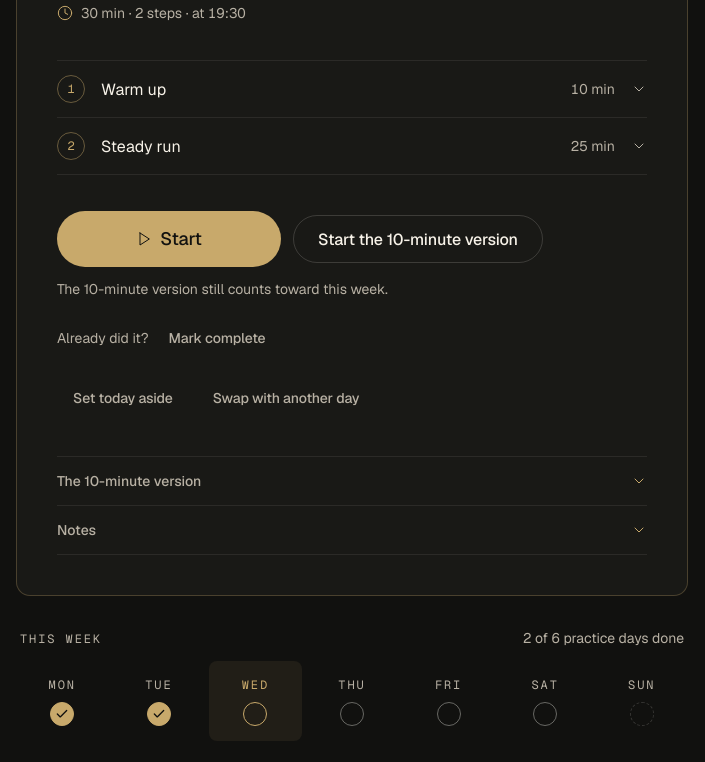
Scenario: Today › short on time and gentle return (missed sessions M3.2) › short on time belongs to today only, not to another selected day
(page scrolled)
Expected: the button "Start the 10-minute version" is shown, [293, 216, 543, 264]
What coordinates should you click on to do the following:
click the button "Tue"
I would click on:
 (159, 702)
Its box is [113, 662, 205, 742].
(page scrolled)
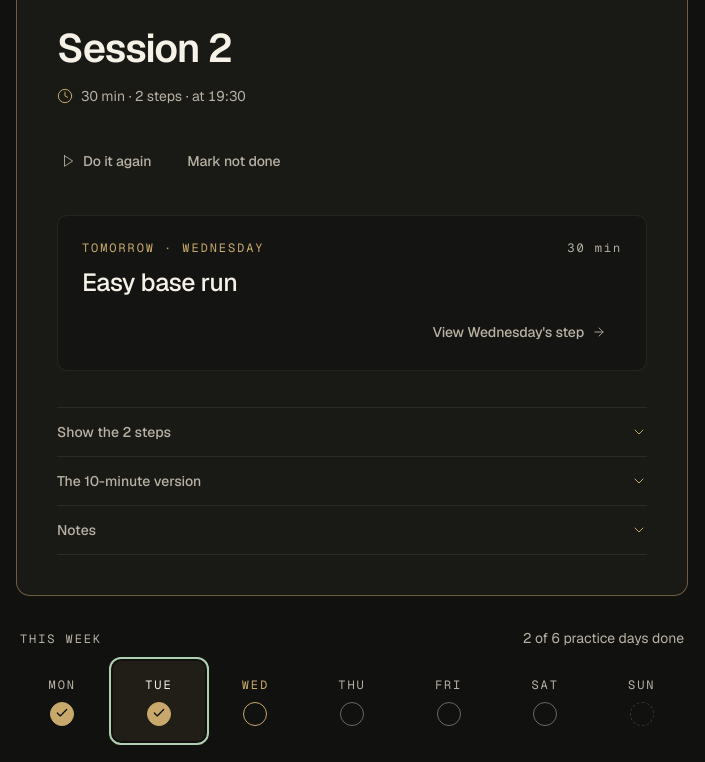
Now the text "The 10-minute version still counts toward this week." is gone
Now the button "Start the 10-minute version" is gone
Now the button "Do it again" is shown, box [45, 139, 167, 183]
